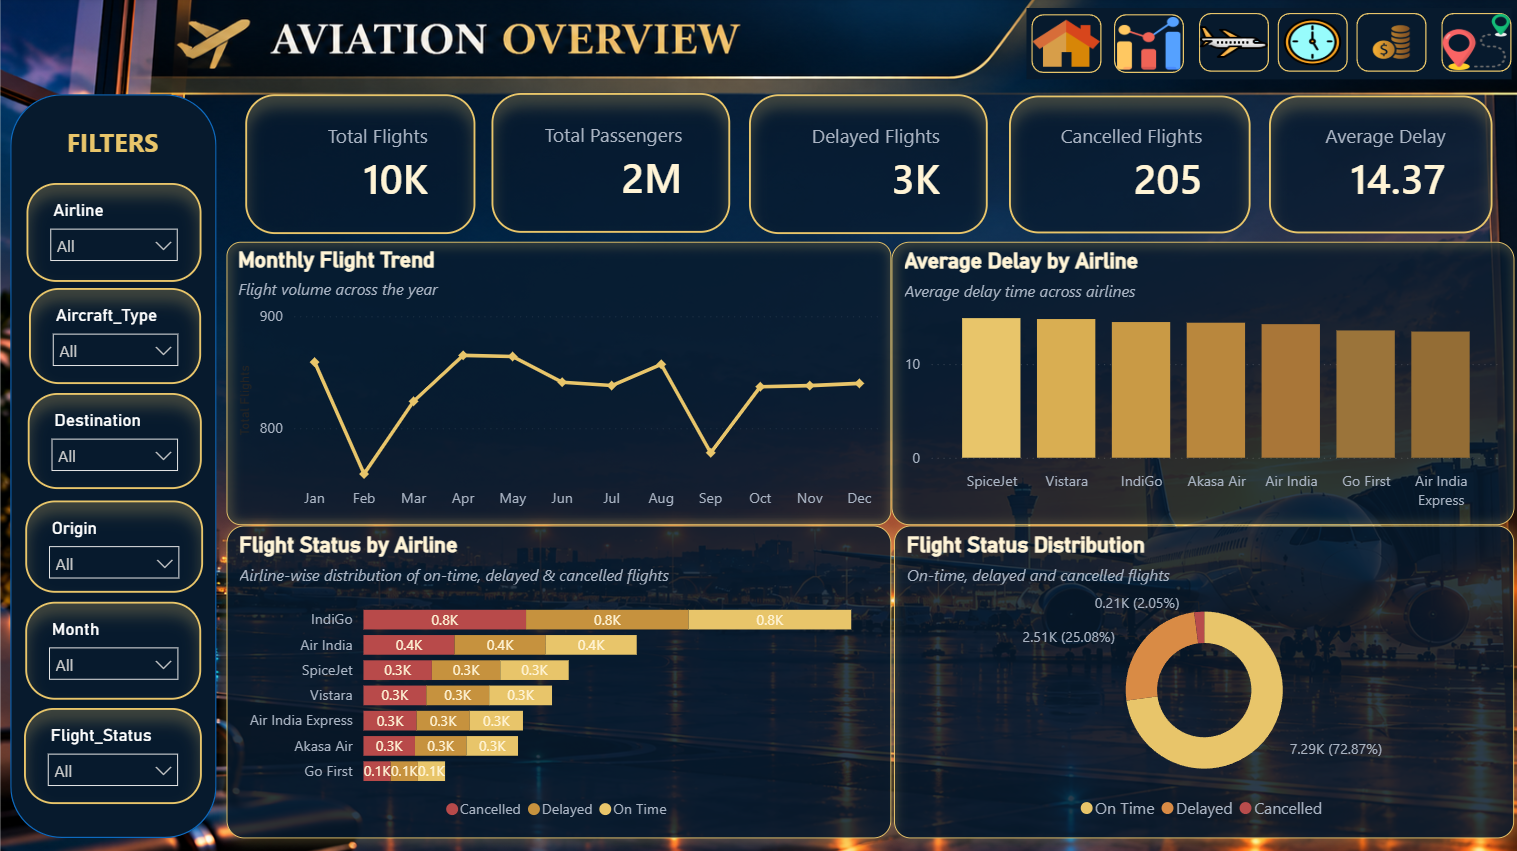

The page's visual inventory and layout, read from the dashboard file:
{"tool":"powerbi","page":{"name":"Aviation Overview","canvas":[1280,720],"ordinal":1},"visuals":[{"type":"image","box":[1.1,0,1278.9,720],"z":0},{"type":"cardVisual","title":"Flights","fields":{"Data":["Flight_Data.Total Flights"]},"box":[16.7,68.9,227.8,117.8],"z":1000},{"type":"cardVisual","title":"Cancelled","fields":{"Data":["Flight_Data.Cancelled Flights"]},"box":[772.2,72.2,228.9,116.7],"z":2000},{"type":"cardVisual","title":"Avg Delay","fields":{"Data":["Flight_Data.Average Delay"]},"box":[1026.7,73.3,231.1,116.7],"z":3000},{"type":"cardVisual","title":"Delayed","fields":{"Data":["Flight_Data.Delayed Flights"]},"box":[527.8,72.2,222.2,114.4],"z":4000},{"type":"cardVisual","title":"Passenger","fields":{"Data":["Flight_Data.Total Passengers"]},"box":[266.7,70,232.2,117.8],"z":5000},{"type":"image","box":[91.5,110.4,56.8,59.9],"z":6000},{"type":"image","box":[351.2,110.4,46.3,59.9],"z":7000},{"type":"image","box":[606.7,110.4,46.3,59.9],"z":8000},{"type":"image","box":[853.7,110.4,44.2,59.9],"z":9000},{"type":"image","box":[1096.6,111.4,45.2,59.9],"z":10000},{"type":"lineChart","title":"Monthly Flight Trend","fields":{"Category":["Date_Table.Month"],"Y":["Flight_Data.Total Flights"]},"box":[16.7,195.6,602.2,238.9],"z":11000},{"type":"donutChart","title":"Flight Status Distribution","fields":{"Category":["Flight_Data.Flight_Status"],"Y":["CountNonNull(Flight_Data.Flight_ID)"]},"box":[653.3,194.4,604.4,240],"z":12000},{"type":"barChart","title":"Flight Status by Airline","fields":{"Category":["Flight_Data.Airline"],"Y":["Flight_Data.Delayed Flights"],"Series":["Flight_Data.Flight_Status"]},"box":[16.7,434.4,596.7,276.7],"z":13000},{"type":"clusteredColumnChart","title":"Average Delay by Airline","fields":{"Category":["Flight_Data.Airline"],"Y":["Flight_Data.Average Delay"]},"box":[653.3,434.4,604.4,276.7],"z":14000}]}

Visuals, with their boxes in screenshot pixels (x1, y1, x2, y2), scaled from the page's 1280x720 canvas onto the 1517x851 screenshot:
image: [1,0,1516,850]
"Flights" cardVisual: [20,81,290,221]
"Cancelled" cardVisual: [915,85,1186,223]
"Avg Delay" cardVisual: [1217,87,1491,225]
"Delayed" cardVisual: [626,85,889,221]
"Passenger" cardVisual: [316,83,591,222]
image: [108,130,176,201]
image: [416,130,471,201]
image: [719,130,774,201]
image: [1012,130,1064,201]
image: [1300,132,1353,202]
"Monthly Flight Trend" lineChart: [20,231,733,514]
"Flight Status Distribution" donutChart: [774,230,1491,513]
"Flight Status by Airline" barChart: [20,513,727,840]
"Average Delay by Airline" clusteredColumnChart: [774,513,1491,840]
